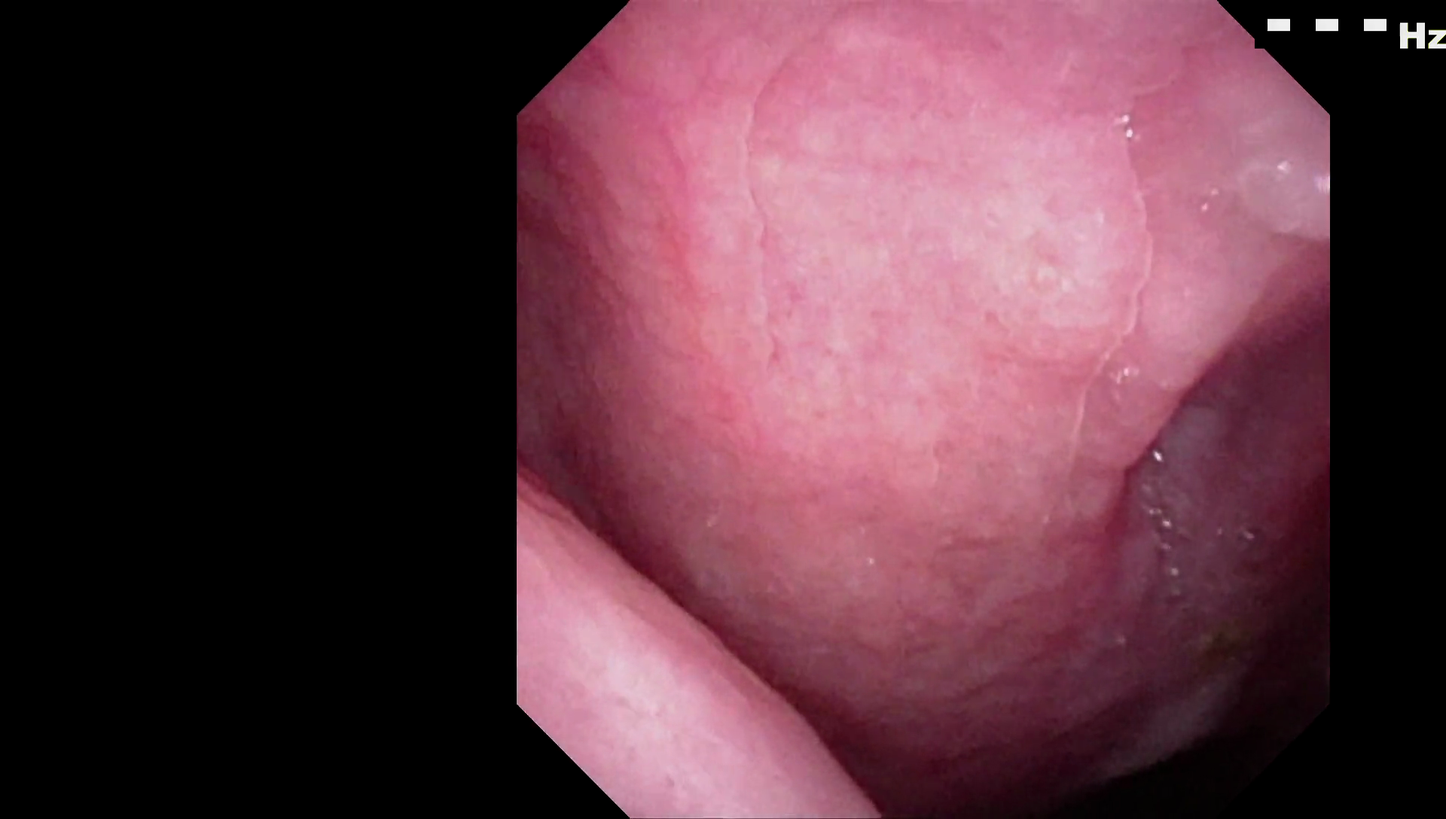close_wall: (655, 41, 1203, 415), (521, 480, 845, 819)
next: (1075, 592, 1300, 793)
